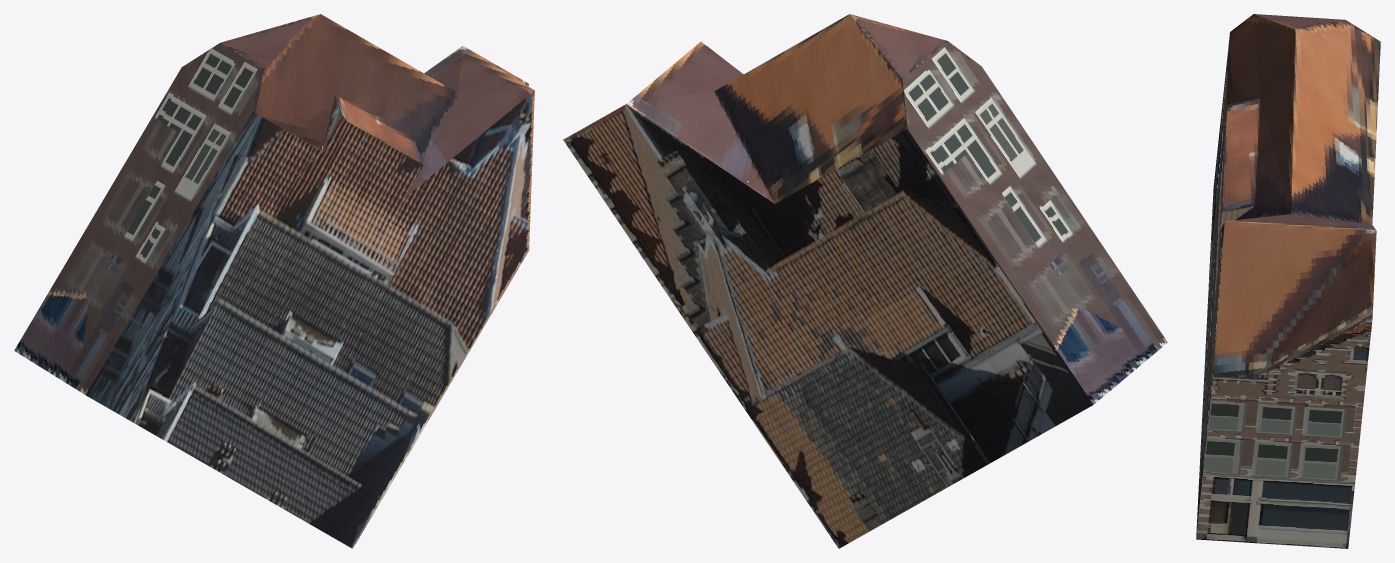
3 views of the same model, side by side, from view 1: azimuth 30°, elevation 25°; view 2: azimuth 150°, elevation 25°; view 3: azimuth 270°, elevation 25° (orthographic). The views are drawn at different scales.
Visible parts, largest first — view 1: BAG_0599100000760366 (×5); view 2: BAG_0599100000760366 (×3); view 3: BAG_0599100000760366 (×5).
Part boxes in pixels (x1=…): BAG_0599100000760366 (×5): x1=14, y1=14, x2=534, y2=548; BAG_0599100000760366 (×3): x1=563, y1=14, x2=1167, y2=548; BAG_0599100000760366 (×5): x1=1196, y1=14, x2=1380, y2=548.
Bounding box in the file's own units: 25.28 × 23.47 × 7.46.
Materials: 5 (5 with a texture image).
